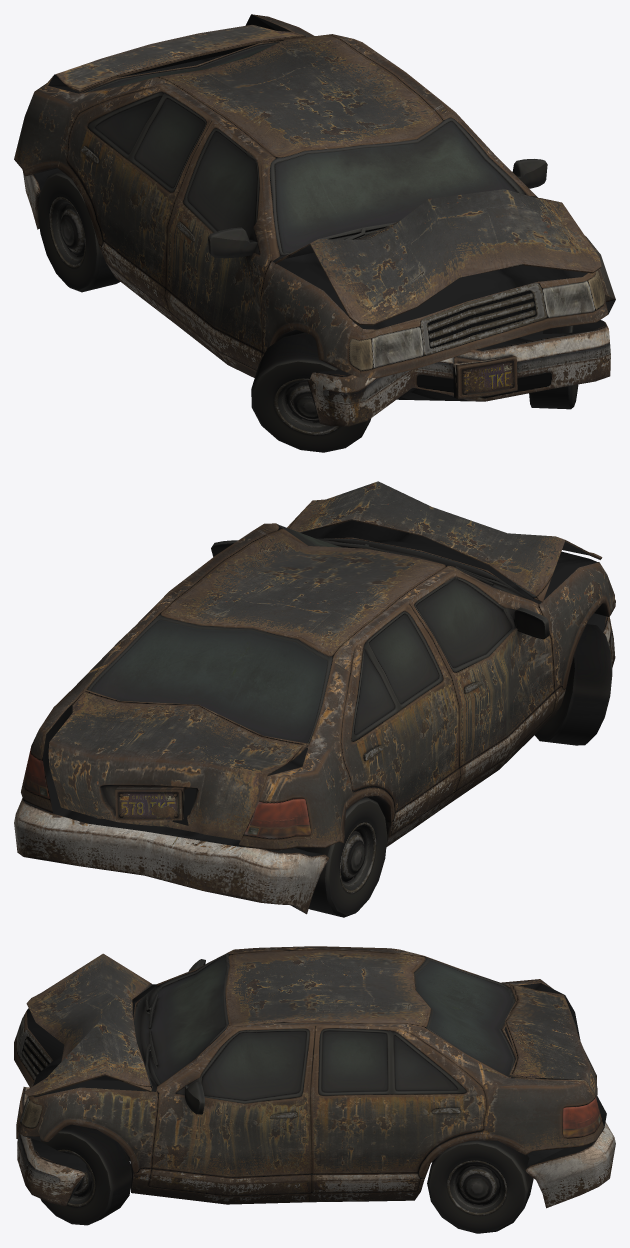
Rendered from wreckedcar_4.fbx.
3 views of the same model, one above another, from view 1: azimuth 30°, elevation 25°; view 2: azimuth 150°, elevation 25°; view 3: azimuth 270°, elevation 25° (orthographic). The views are drawn at different scales.
Parts seen in each view (by area): view 1: Object001; view 2: Object001; view 3: Object001.
Part boxes in pixels (<box>): Object001: <box>14,14,615,452</box>; Object001: <box>14,481,615,917</box>; Object001: <box>14,946,615,1233</box>.
Size of the model in its own units: 594 by 381 by 1073.
1 material, 1 textured.
